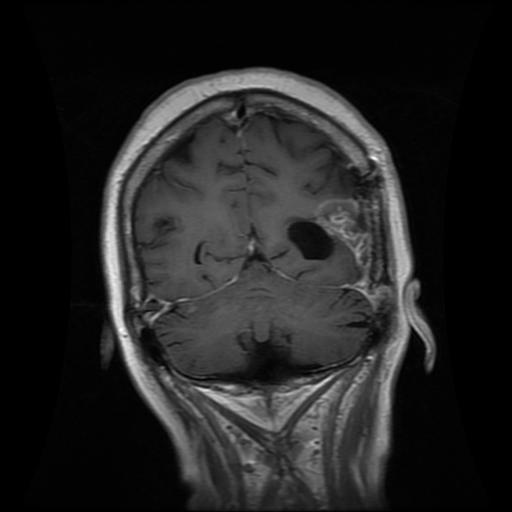Gliomia_tumour: (285, 195, 372, 272)
